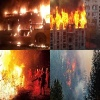fire: (4, 2, 50, 49), (0, 51, 23, 99), (50, 5, 87, 30), (63, 58, 76, 90)
